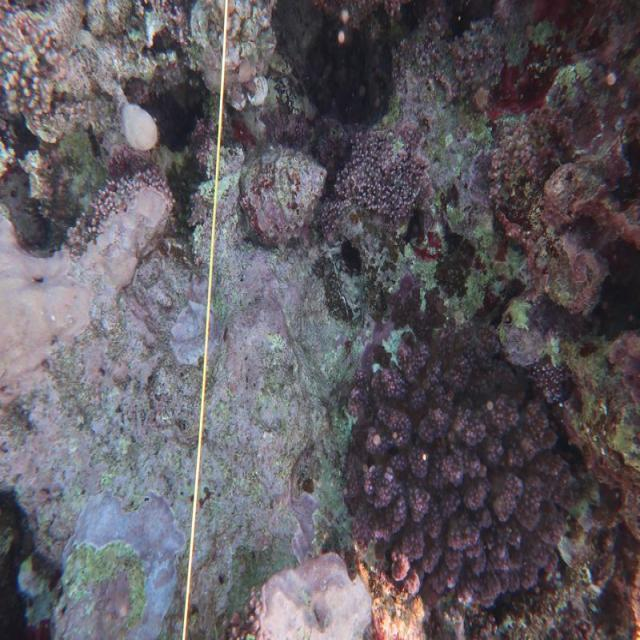Healthy Coral: (337, 325, 591, 608)
